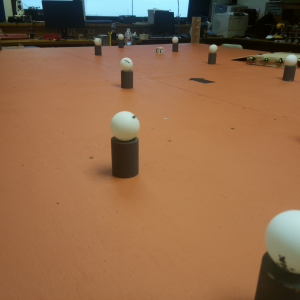obstacle: (255, 210, 299, 300), (110, 111, 139, 177), (119, 57, 134, 87), (283, 54, 296, 81), (206, 44, 218, 65), (93, 37, 102, 57), (172, 36, 179, 51), (118, 33, 124, 48)
side: (247, 56, 286, 67)
